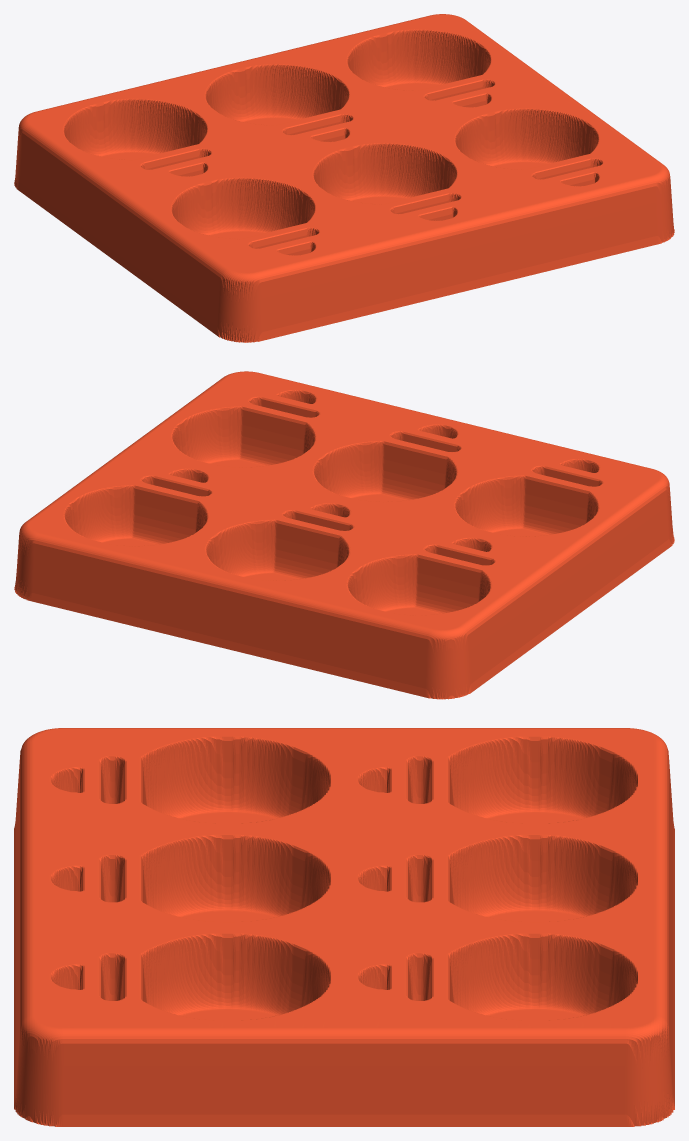
The model's file is mold.glb.
The picture shows the model from 3 angles, top to bottom: view 1: azimuth 30°, elevation 25°; view 2: azimuth 150°, elevation 25°; view 3: azimuth 270°, elevation 25°; orthographic projection. The views are drawn at different scales.
Parts seen in each view (by area): view 1: geometry_0; view 2: geometry_0; view 3: geometry_0.
Part boxes in pixels (bbox=[...]): geometry_0: bbox=[14, 14, 674, 342]; geometry_0: bbox=[14, 371, 674, 699]; geometry_0: bbox=[14, 728, 674, 1126].
Bounding box in the file's own units: 0.138 × 0.0185 × 0.1222.
